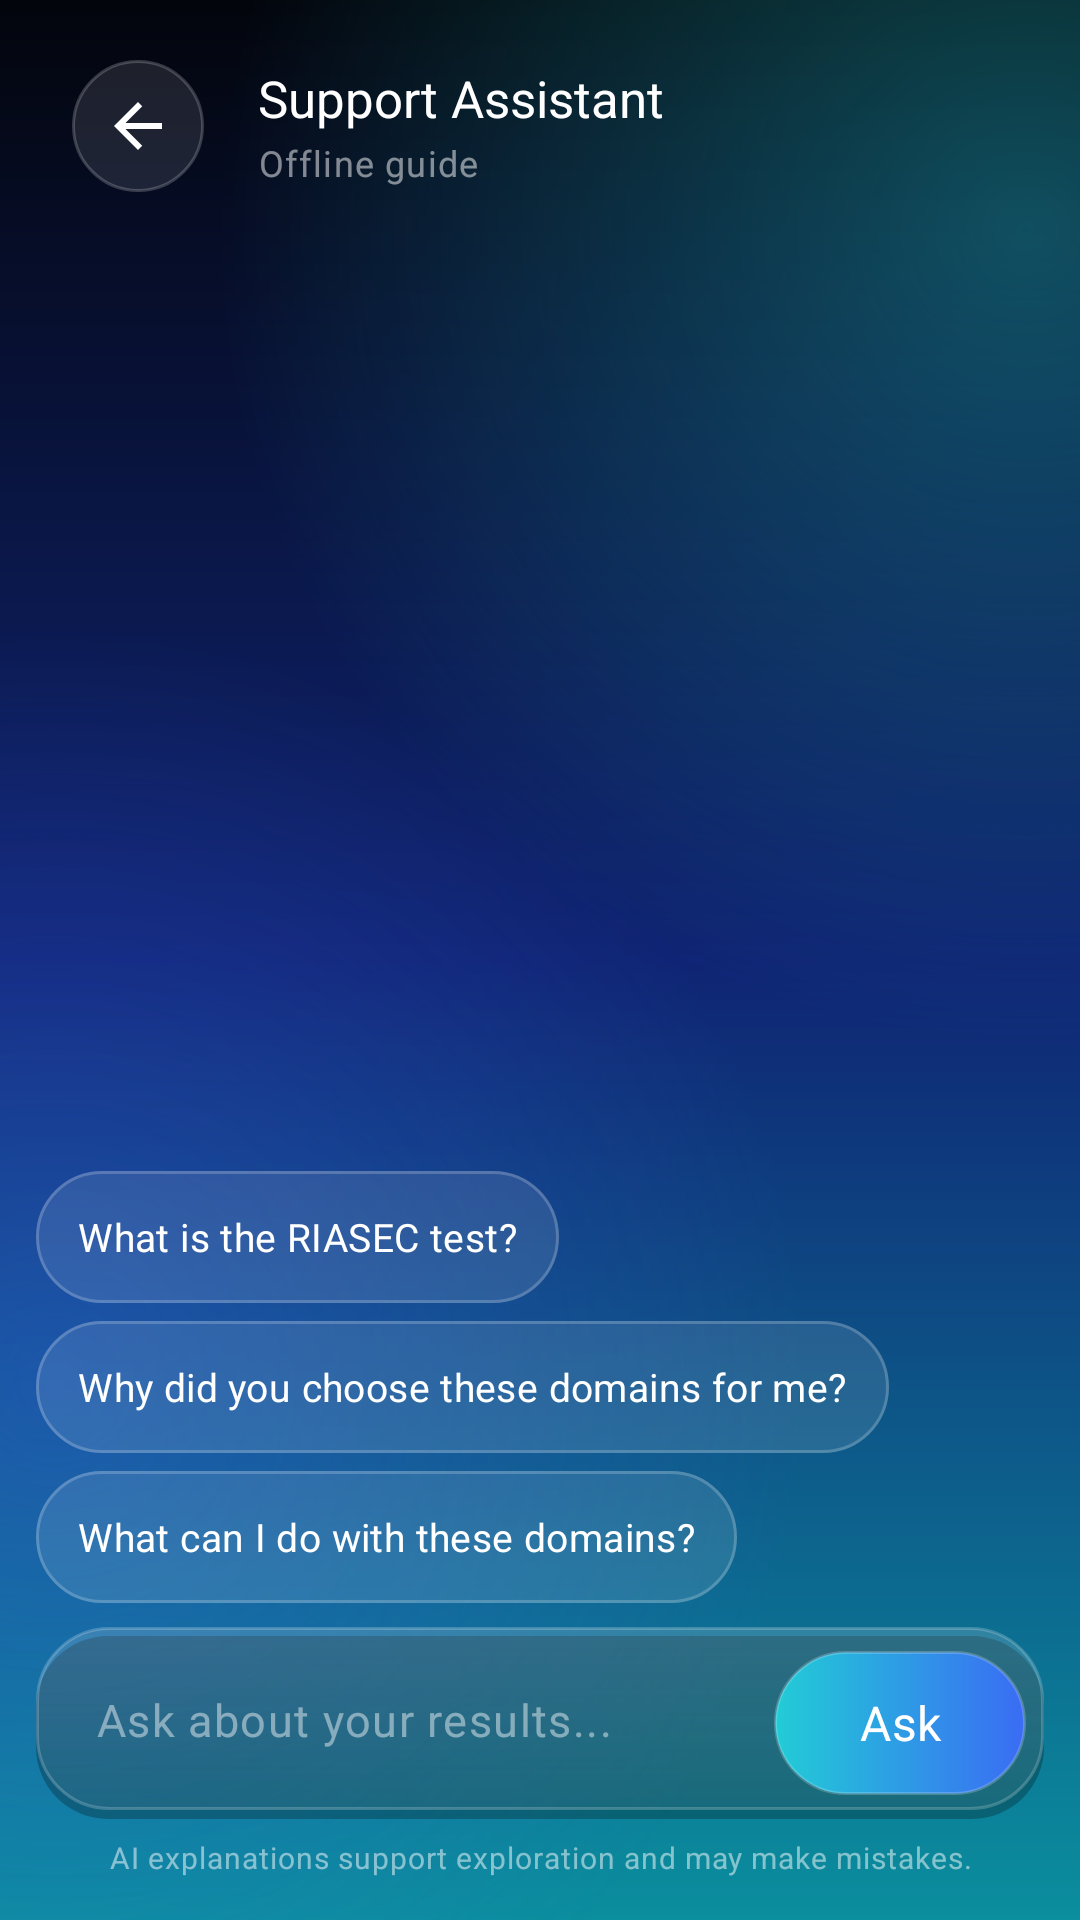

Locate icon controls on the screen. Image size 1080px x 1920px, boxes as box=[x1, y1, x2, y2].
Back: box=[72, 60, 204, 192]
